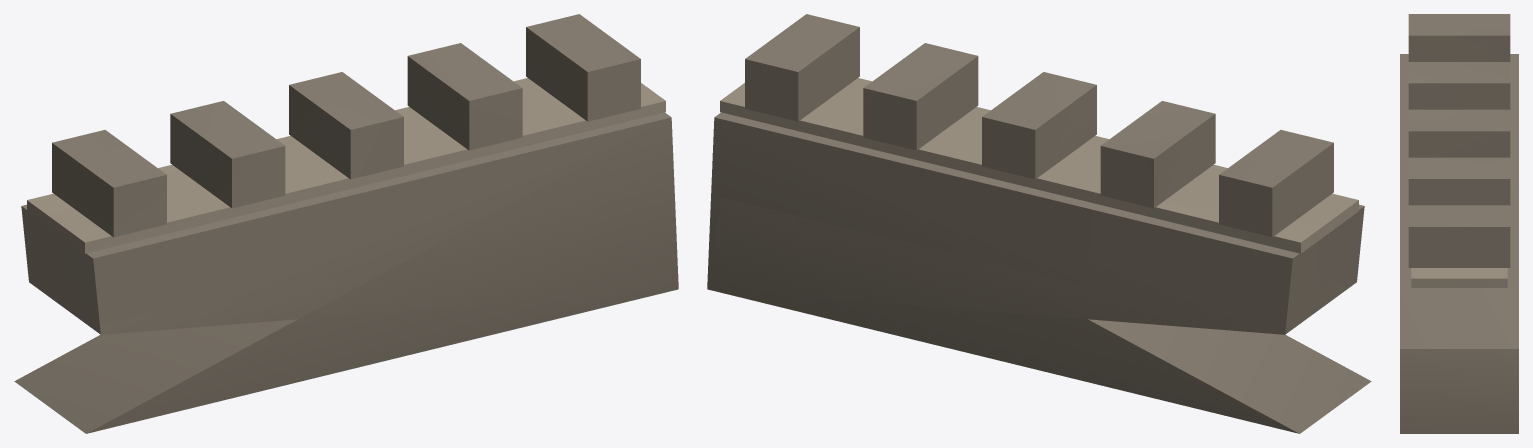
File: wari_pukara_wall_lod0.glb
3 renders of one model, left to right at view 1: azimuth 30°, elevation 25°; view 2: azimuth 150°, elevation 25°; view 3: azimuth 270°, elevation 25°, orthographic. The views are drawn at different scales.
Parts seen in each view (by area): view 1: GEO-Arch_wari_pukara_wall_LOD0; view 2: GEO-Arch_wari_pukara_wall_LOD0; view 3: GEO-Arch_wari_pukara_wall_LOD0.
Part boxes in pixels (<box>): GEO-Arch_wari_pukara_wall_LOD0: <box>14,14,678,433</box>; GEO-Arch_wari_pukara_wall_LOD0: <box>707,14,1371,433</box>; GEO-Arch_wari_pukara_wall_LOD0: <box>1400,14,1518,433</box>.
Bounding box in the file's own units: 10 × 3.78 × 2.1.
